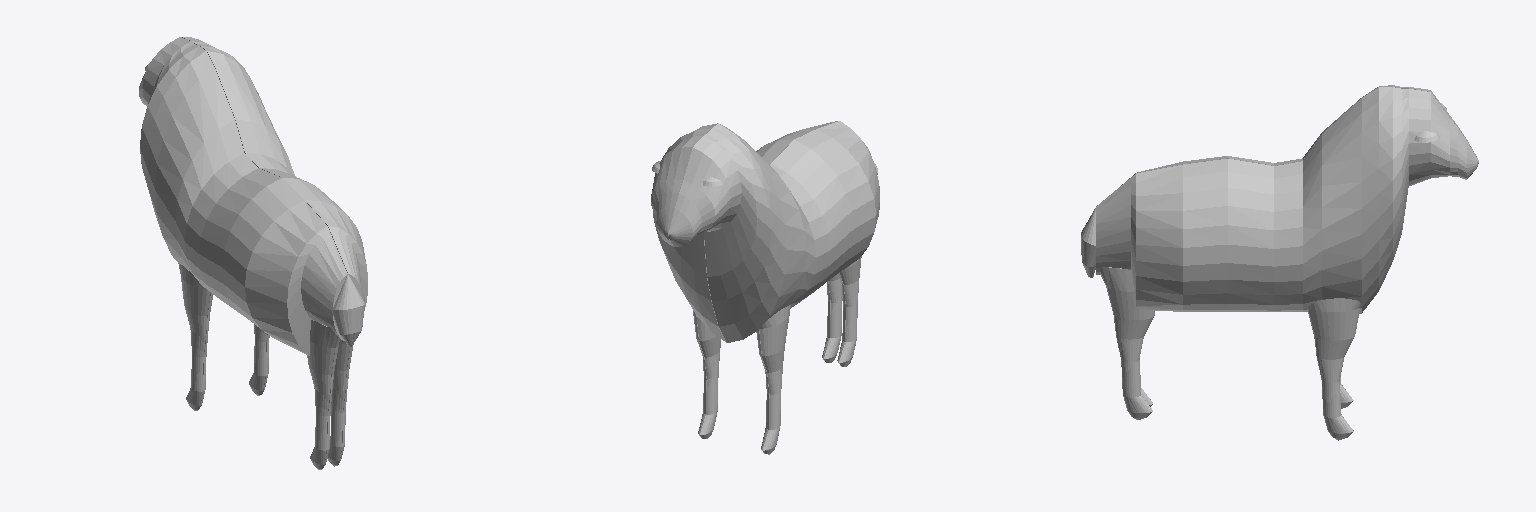
File: pawn.obj
3 renders of one model, left to right at view 1: azimuth 30°, elevation 25°; view 2: azimuth 150°, elevation 25°; view 3: azimuth 270°, elevation 25°, orthographic.
Parts seen in each view (by area): view 1: Mesh.005_ID43, Mesh_ID2.001, Mesh.006_ID51, Mesh.017_ID127, Mesh.013_ID99, Mesh.012_ID93, Mesh.001_ID15.001, Mesh.004_ID37, Mesh.003_ID31, Mesh.002_ID23.001; view 2: Mesh.005_ID43, Mesh_ID2.001, Mesh.037_ID266, Mesh.023_ID176, Mesh.013_ID99, Mesh.012_ID93, Mesh.003_ID31, Mesh.004_ID37, Mesh.001_ID15.001, Mesh.016_ID119; view 3: Mesh_ID2.001, Mesh.033_ID240, Mesh.023_ID176, Mesh.029_ID214, Mesh.030_ID222, Mesh.032_ID234, Mesh.017_ID127, Mesh.005_ID43.
Boxes of the visible parts, box(x1,y1,x2,y2) form: Mesh.005_ID43: box(139, 37, 347, 355); Mesh_ID2.001: box(183, 37, 367, 310); Mesh.006_ID51: box(307, 320, 337, 394); Mesh.017_ID127: box(332, 275, 364, 346); Mesh.013_ID99: box(178, 263, 210, 335); Mesh.012_ID93: box(186, 329, 205, 410); Mesh.001_ID15.001: box(327, 388, 344, 466); Mesh.004_ID37: box(310, 388, 327, 469); Mesh.003_ID31: box(249, 324, 266, 395); Mesh.002_ID23.001: box(330, 338, 349, 394); Mesh.005_ID43: box(693, 121, 879, 342); Mesh_ID2.001: box(653, 121, 836, 342); Mesh.037_ID266: box(669, 148, 719, 246); Mesh.023_ID176: box(651, 147, 691, 246); Mesh.013_ID99: box(759, 305, 790, 372); Mesh.012_ID93: box(763, 367, 782, 454); Mesh.003_ID31: box(700, 352, 719, 438); Mesh.004_ID37: box(839, 280, 858, 366); Mesh.001_ID15.001: box(824, 279, 842, 362); Mesh.016_ID119: box(697, 317, 720, 357); Mesh_ID2.001: box(1096, 87, 1430, 313); Mesh.033_ID240: box(1307, 298, 1360, 359); Mesh.023_ID176: box(1431, 93, 1478, 179); Mesh.029_ID214: box(1100, 267, 1154, 339); Mesh.030_ID222: box(1116, 337, 1152, 419); Mesh.032_ID234: box(1317, 358, 1353, 440); Mesh.017_ID127: box(1081, 208, 1095, 277); Mesh.005_ID43: box(1122, 85, 1430, 184).
Size of the model in its own units: 1.36 by 3.66 by 3.91.